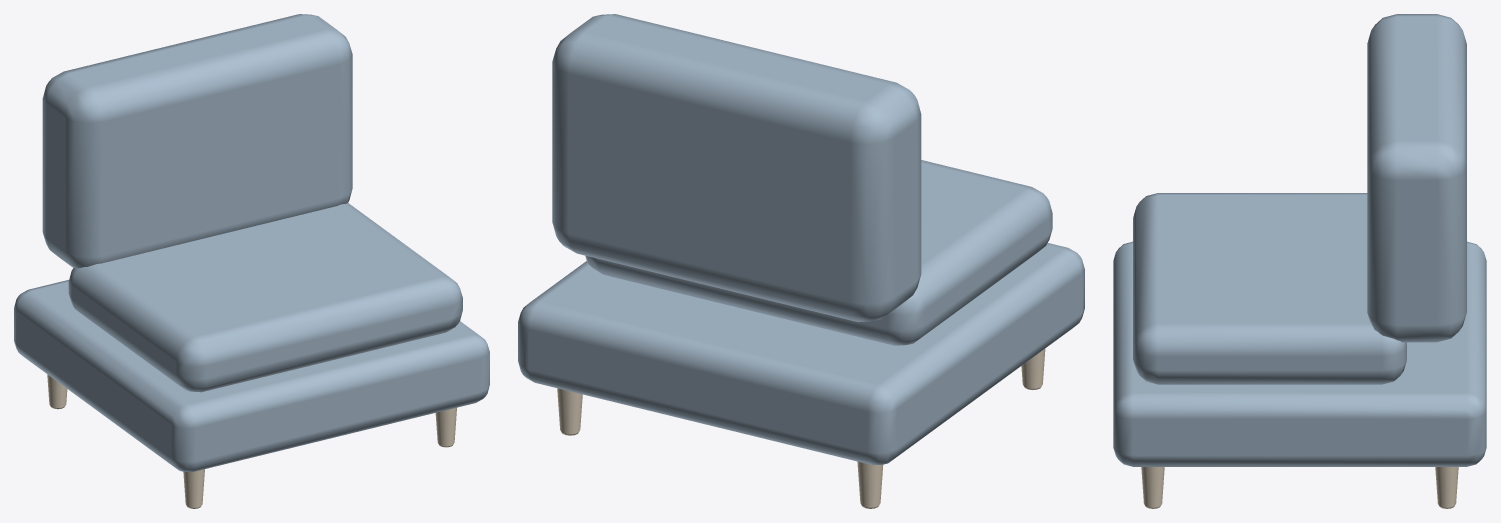
File: loungeChair.glb
The picture shows the model from 3 angles, left to right: view 1: azimuth 30°, elevation 25°; view 2: azimuth 150°, elevation 25°; view 3: azimuth 270°, elevation 25°; orthographic projection. The views are drawn at different scales.
Visible parts, largest first — view 1: loungeChair; view 2: loungeChair; view 3: loungeChair.
Boxes of the visible parts, left/top/right/bottom form: loungeChair: left=14, top=14, right=489, bottom=508; loungeChair: left=518, top=14, right=1084, bottom=508; loungeChair: left=1113, top=14, right=1486, bottom=508.
Size of the model in its own units: 0.79 by 0.8 by 0.75.
